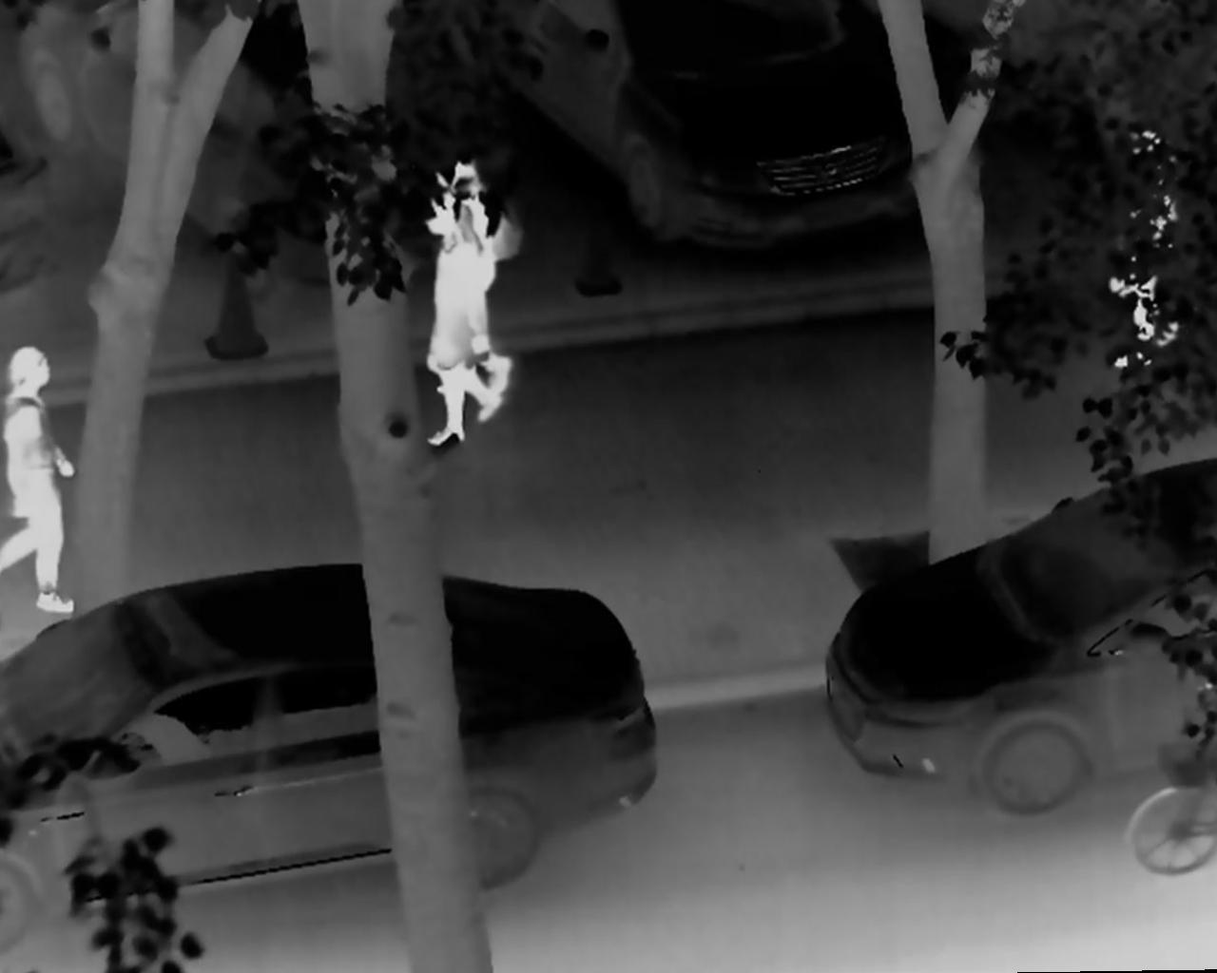person: (423, 149, 528, 404), (402, 199, 506, 453), (1105, 115, 1184, 372)
